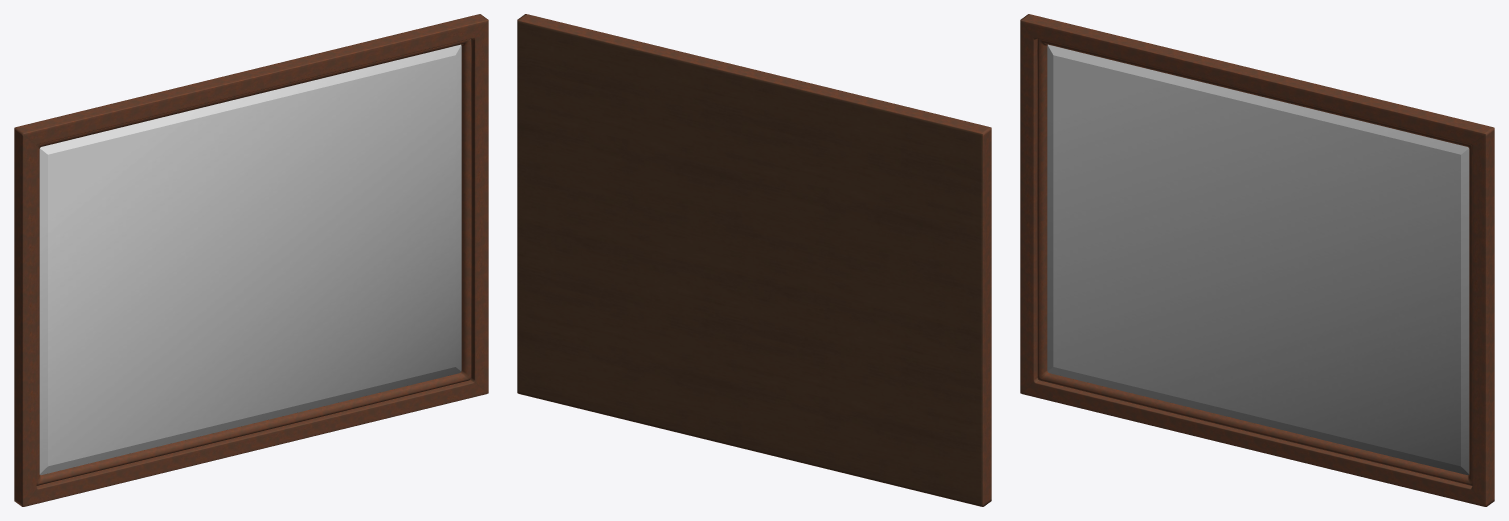
The picture shows the model from 3 angles, left to right: view 1: azimuth 30°, elevation 25°; view 2: azimuth 150°, elevation 25°; view 3: azimuth 330°, elevation 25°; orthographic projection.
Parts seen in each view (by area): view 1: RootNode; view 2: RootNode; view 3: RootNode.
Boxes of the visible parts, left/top/right/bottom form: RootNode: left=14, top=14, right=488, bottom=506; RootNode: left=517, top=14, right=991, bottom=506; RootNode: left=1020, top=14, right=1494, bottom=506.
Bounding box in the file's own units: 1.33 × 1.02 × 0.0448.
1 material, 1 textured.
